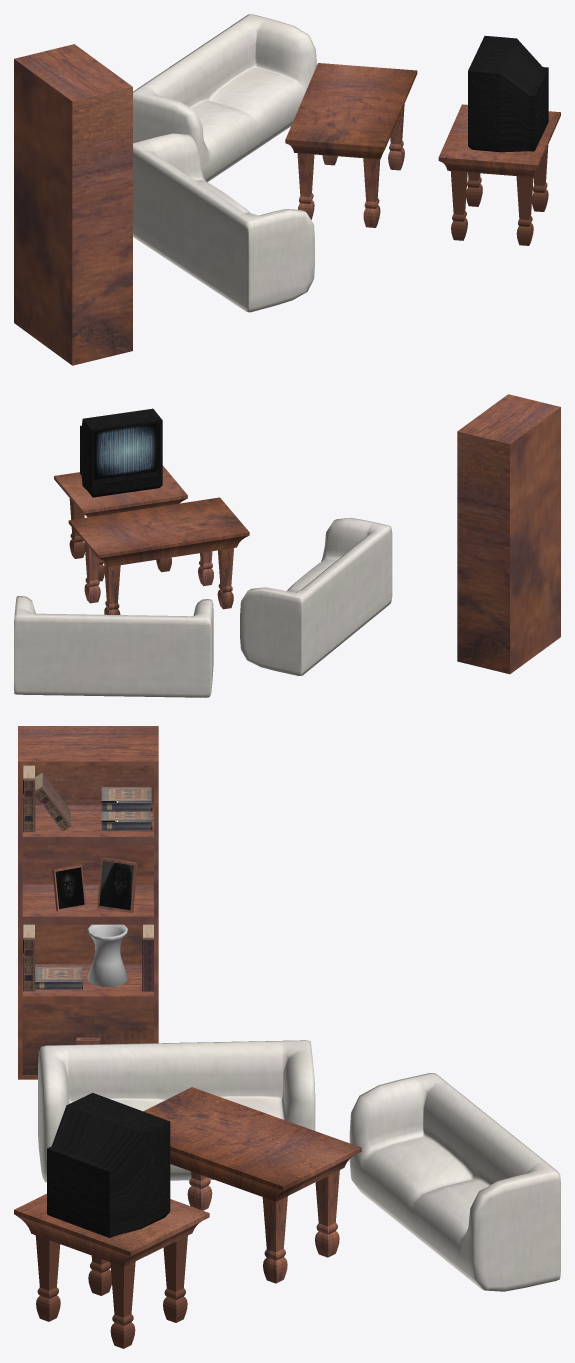
The model's file is LivingRoom.fbx.
3 views of the same model, one above another, from view 1: azimuth 30°, elevation 25°; view 2: azimuth 150°, elevation 25°; view 3: azimuth 270°, elevation 25° (orthographic). The views are drawn at different scales.
Parts seen in each view (by area): view 1: LittleTableDining.005; view 2: LittleTableDining.005; view 3: LittleTableDining.005.
Part boxes in pixels (x1,y1,x2,y2): LittleTableDining.005: [14, 14, 560, 365]; LittleTableDining.005: [14, 394, 560, 697]; LittleTableDining.005: [14, 726, 560, 1348].
Size of the model in its own units: 354 by 167 by 260.
